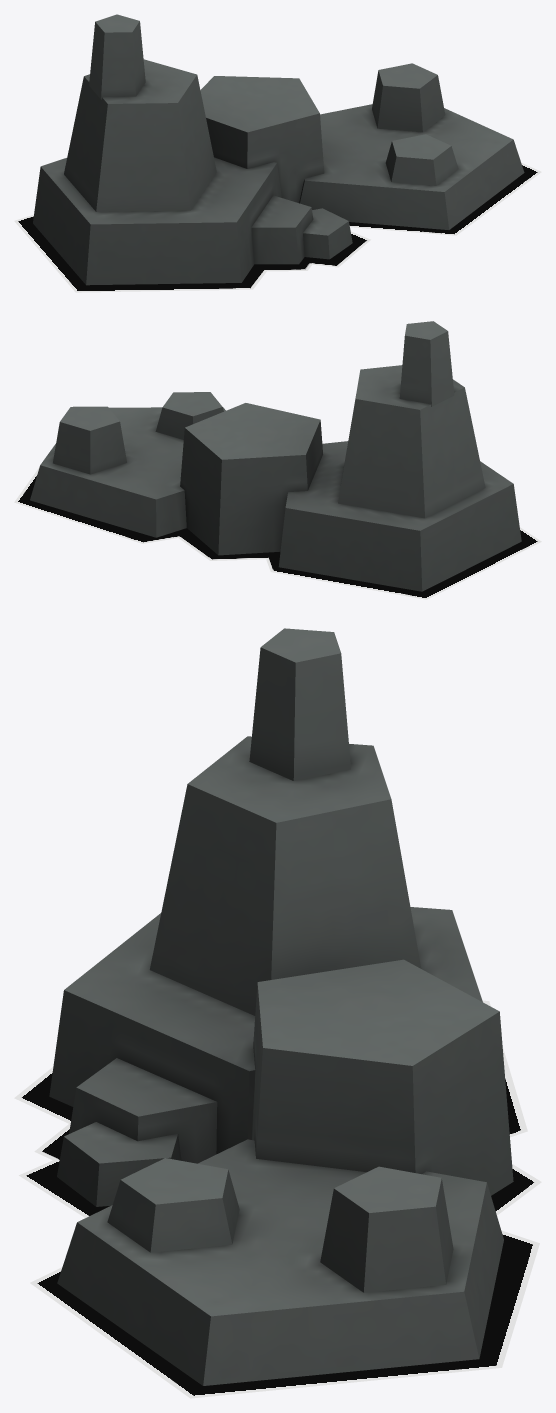
File: 2x1_rock.FBX
The picture shows the model from 3 angles, top to bottom: view 1: azimuth 30°, elevation 25°; view 2: azimuth 150°, elevation 25°; view 3: azimuth 270°, elevation 25°; orthographic projection. The views are drawn at different scales.
Visible parts, largest first — view 1: 2x1_rock, 2x1_rock_soft_shadow; view 2: 2x1_rock, 2x1_rock_soft_shadow; view 3: 2x1_rock, 2x1_rock_soft_shadow.
Boxes of the visible parts, x1,y1,x2,y2 form: 2x1_rock: [33, 14, 524, 285]; 2x1_rock_soft_shadow: [14, 163, 541, 292]; 2x1_rock: [30, 321, 521, 591]; 2x1_rock_soft_shadow: [14, 467, 541, 599]; 2x1_rock: [49, 628, 513, 1385]; 2x1_rock_soft_shadow: [14, 1000, 541, 1398].
Size of the model in its own units: 2113 by 952 by 1118.
